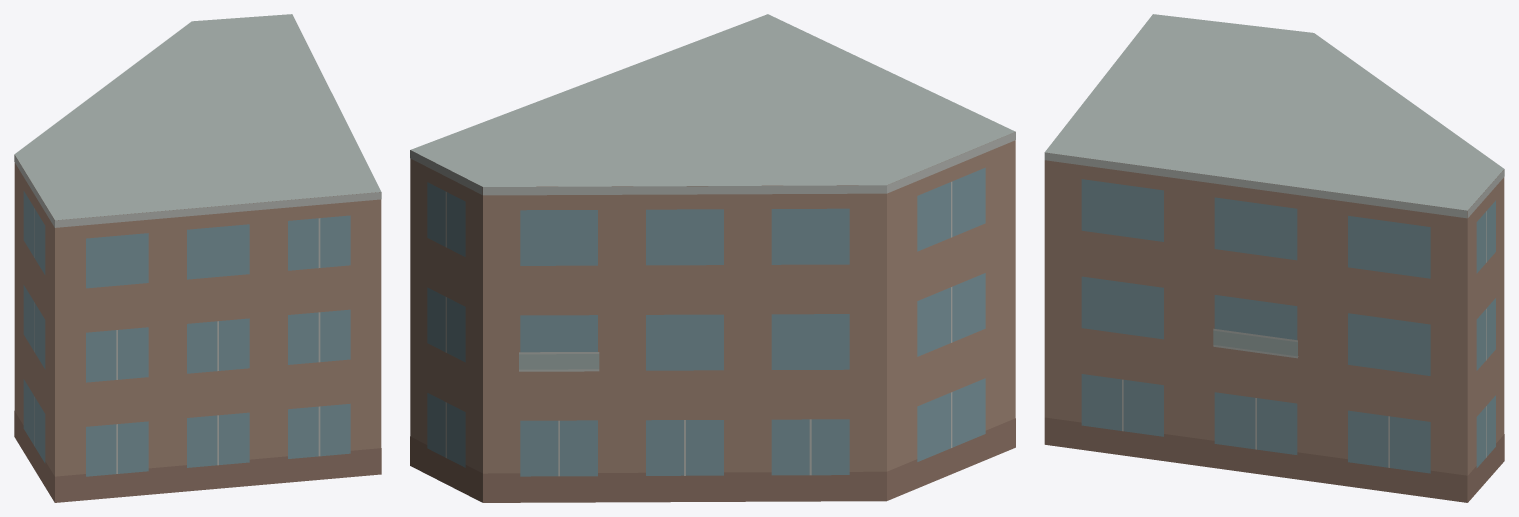
File: survey-upis-32778414.glb
3 views of the same model, side by side, from view 1: azimuth 30°, elevation 25°; view 2: azimuth 150°, elevation 25°; view 3: azimuth 270°, elevation 25° (orthographic). The views are drawn at different scales.
Parts seen in each view (by area): view 1: survey-upis-32778414.tmp; view 2: survey-upis-32778414.tmp; view 3: survey-upis-32778414.tmp.
Boxes of the visible parts, x1=… form: survey-upis-32778414.tmp: x1=14, y1=14, x2=381, y2=502; survey-upis-32778414.tmp: x1=410, y1=14, x2=1015, y2=502; survey-upis-32778414.tmp: x1=1044, y1=14, x2=1504, y2=502.
Bounding box in the file's own units: 13.21 × 9.15 × 13.06.
